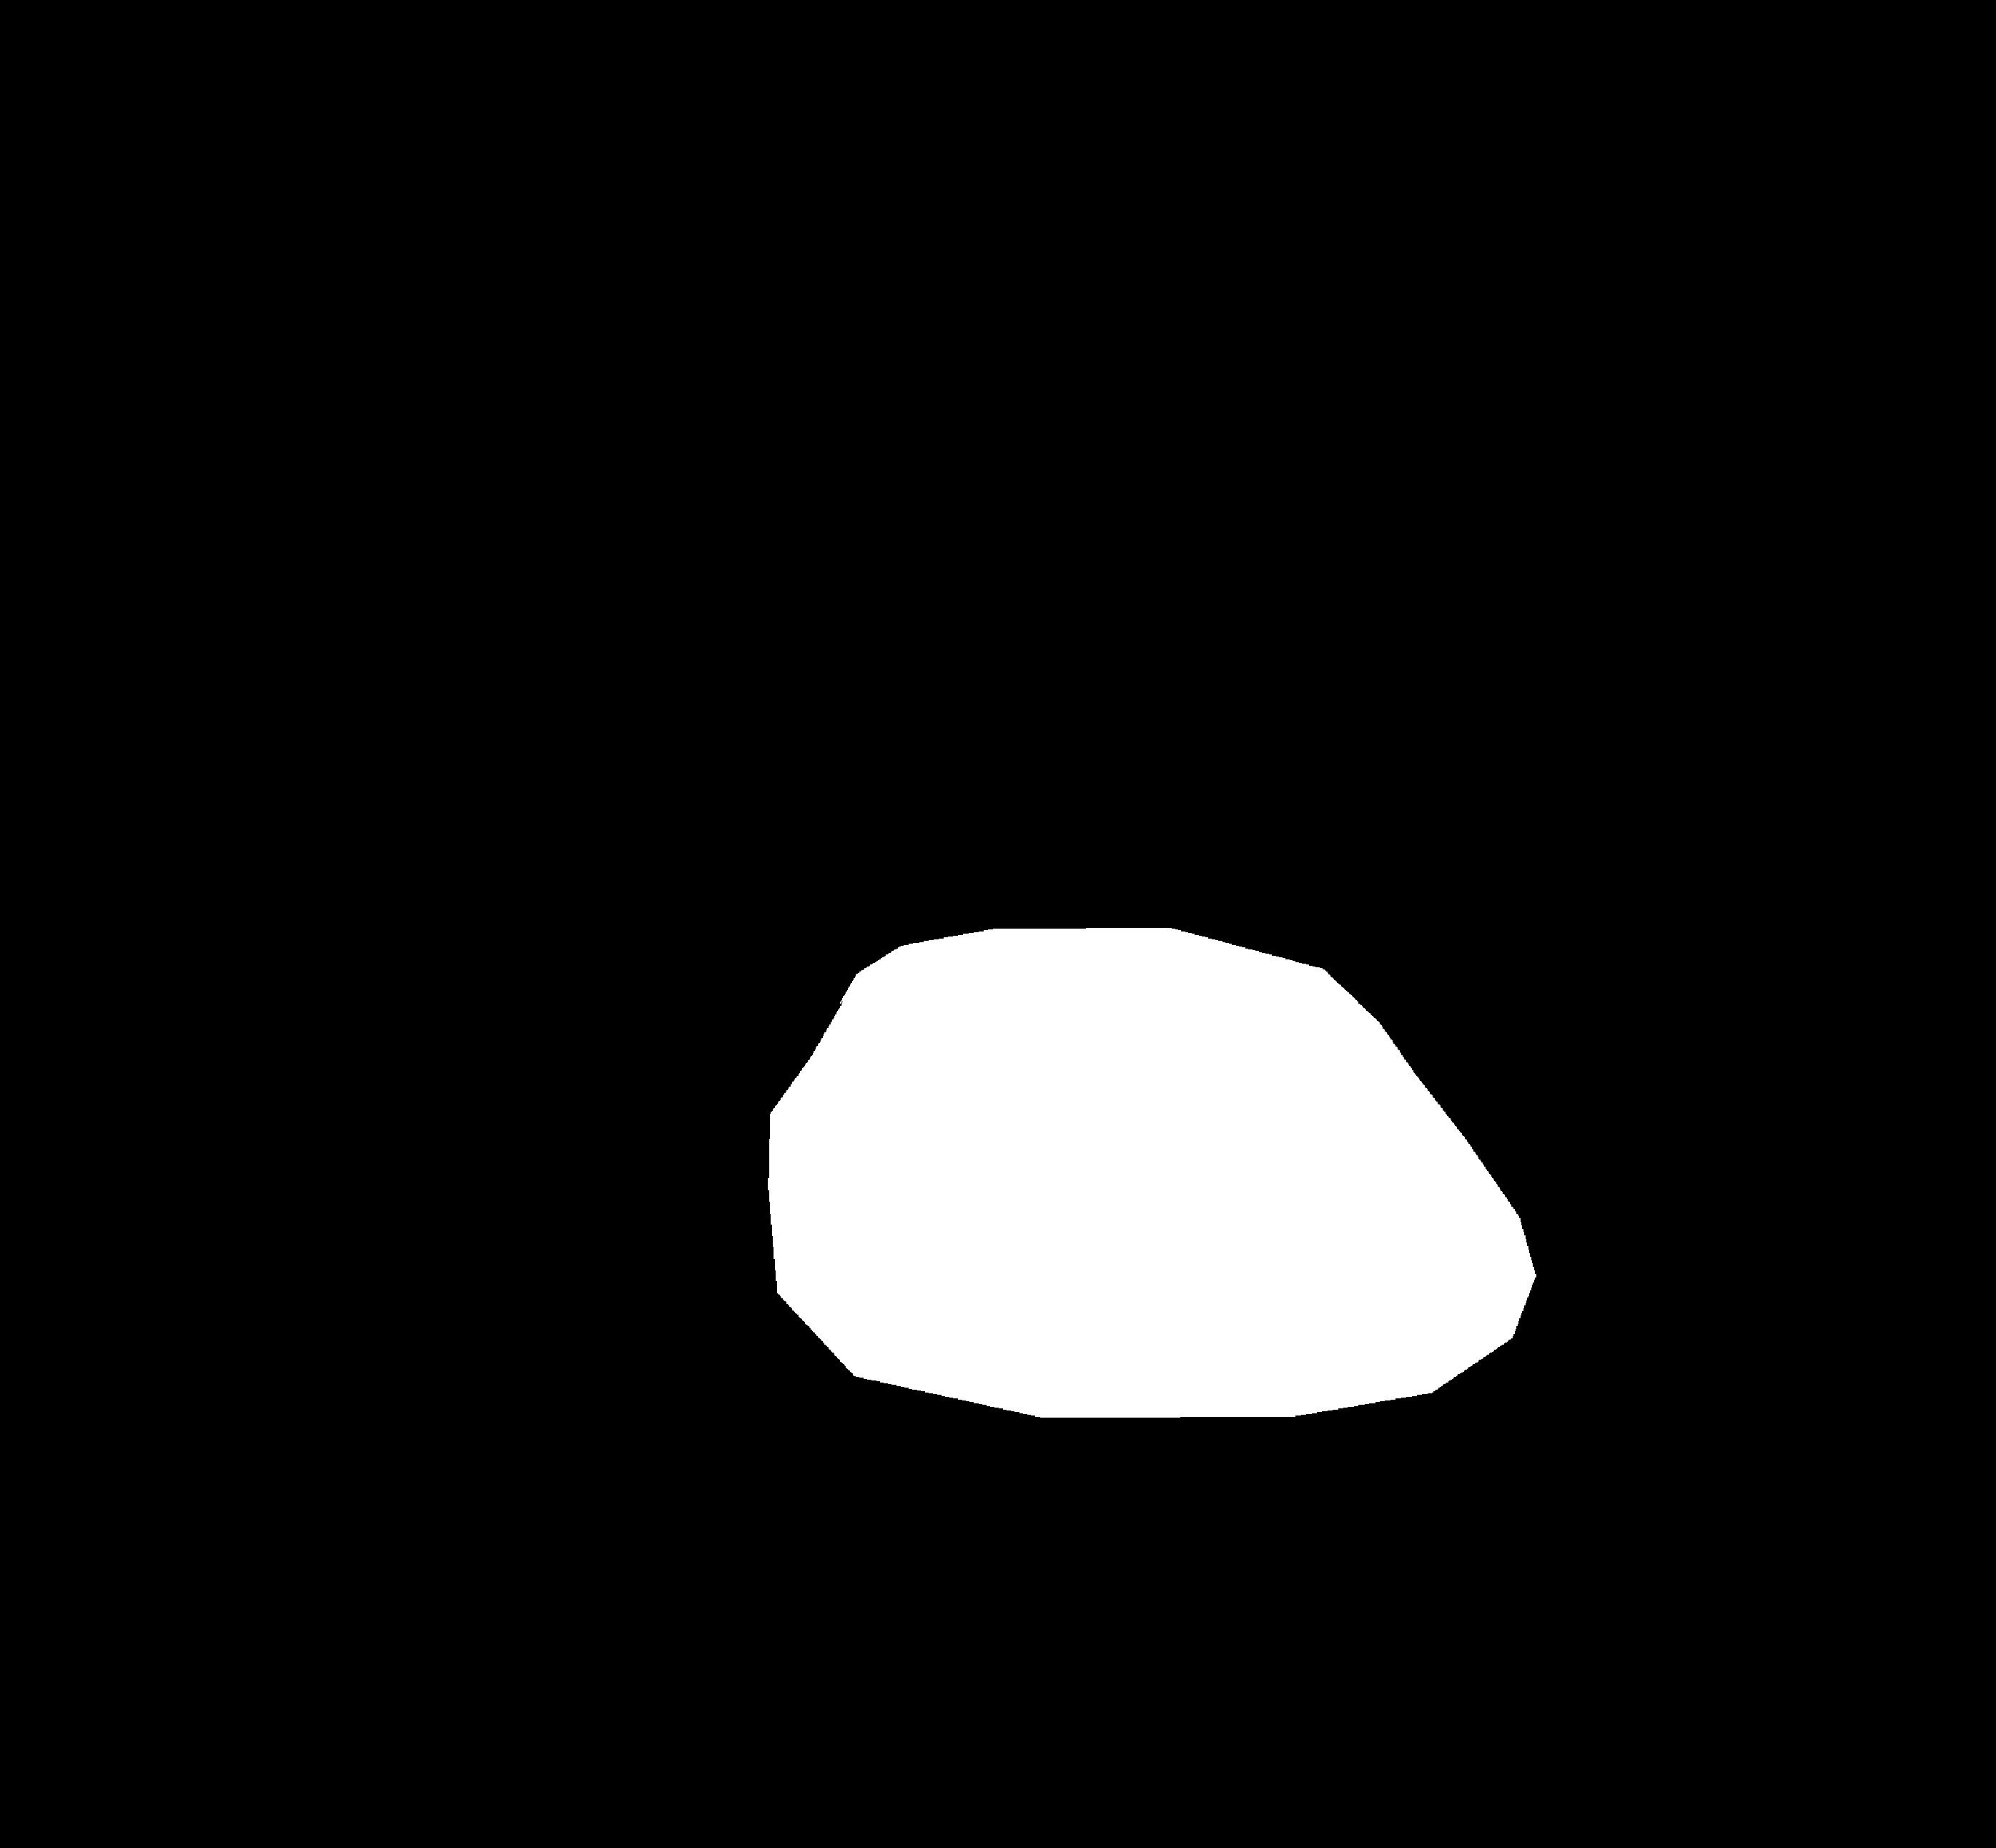heart: (727, 942, 1570, 1533)
left_lung: (221, 269, 998, 1399)
right_lung: (1120, 290, 1794, 1471)
